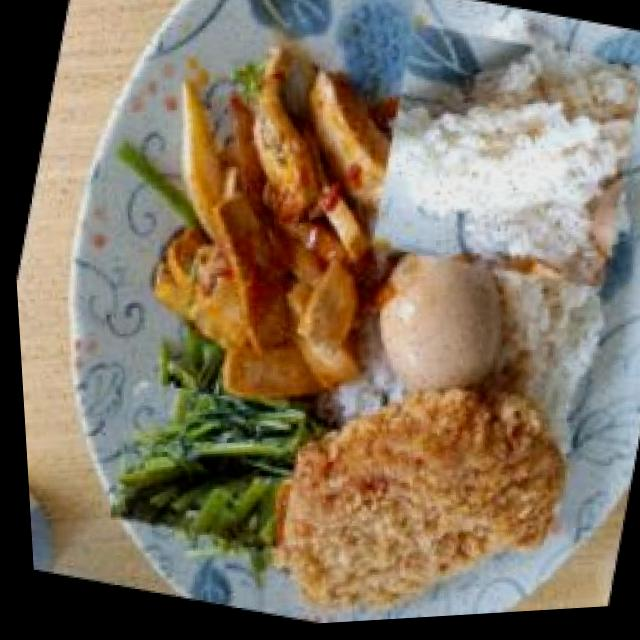fried_chicken: (232, 346, 583, 630)
rice: (360, 15, 640, 308)
water_spinach: (103, 367, 302, 566)
